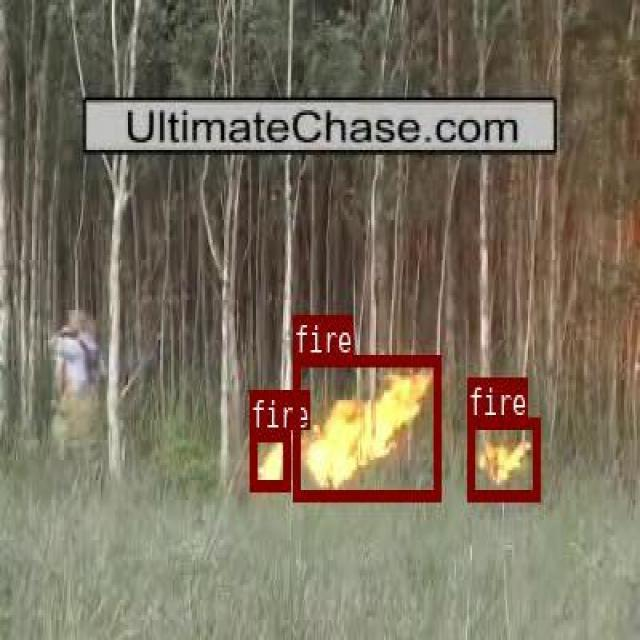fire: (292, 353, 439, 497), (467, 417, 539, 498), (249, 428, 290, 489)
